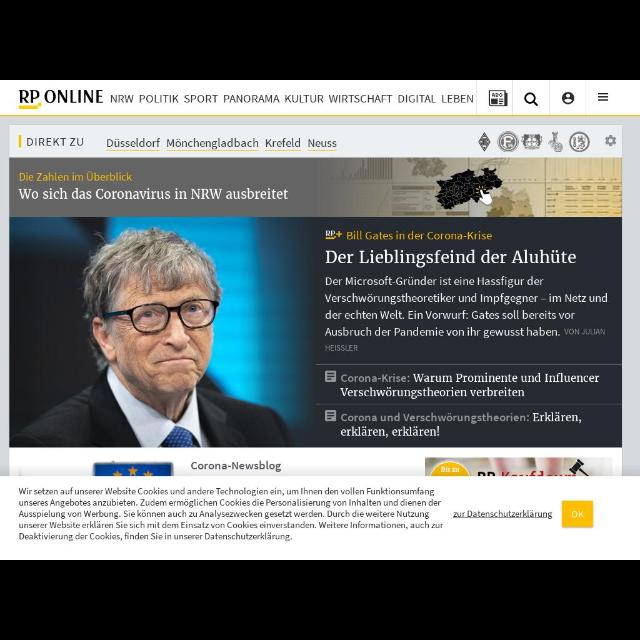icon: (488, 91, 508, 109), (321, 408, 339, 424), (322, 368, 338, 384), (558, 92, 576, 105), (524, 91, 538, 107), (603, 135, 617, 147), (597, 93, 609, 101)
image: (13, 220, 310, 444), (301, 159, 621, 217), (426, 458, 610, 476), (15, 86, 104, 110), (90, 462, 176, 476), (518, 129, 544, 153), (566, 130, 592, 152), (544, 130, 564, 154), (497, 130, 517, 152), (477, 132, 493, 150), (12, 127, 24, 149), (322, 230, 343, 240)
multitab: (99, 126, 347, 158)
text: (18, 487, 442, 539), (326, 276, 612, 342), (342, 374, 598, 398), (340, 414, 584, 436), (323, 247, 577, 265), (17, 185, 290, 198), (16, 168, 134, 184), (346, 230, 494, 242), (24, 132, 84, 150), (188, 462, 282, 472), (166, 138, 260, 148), (104, 136, 162, 150), (330, 93, 390, 105), (224, 95, 280, 104), (286, 94, 324, 106), (443, 92, 473, 106), (324, 341, 356, 354), (181, 94, 217, 105), (141, 95, 179, 105), (397, 95, 435, 104), (263, 138, 303, 146), (307, 138, 338, 148), (108, 94, 134, 105)
textbutton: (450, 512, 554, 520), (563, 504, 593, 528)
toolbar: (1, 81, 636, 115)
